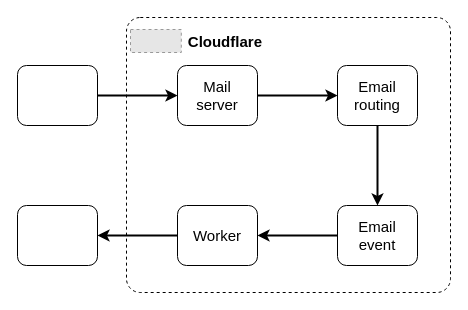
The diagram is 468 pixels wide and 310 high, and some of its shapes have lost their labels. Grey dashed boxes stand in for pictures. Here are the shapes that lost their labels. From the top down, the centre of each, then its label:
At point (57, 95): "Email".
At point (57, 235): "SMS".
